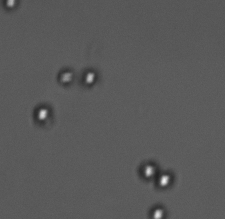Living Cell: (35, 104, 52, 123), (139, 162, 156, 179), (57, 68, 73, 85), (157, 173, 173, 189), (82, 68, 96, 85), (150, 206, 168, 218), (4, 1, 17, 8)
